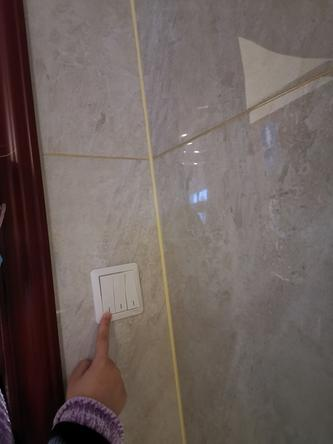switch: (123, 265, 144, 310), (97, 271, 117, 318), (110, 269, 129, 312)
